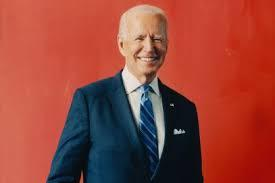Persons: (112, 4, 180, 84)
